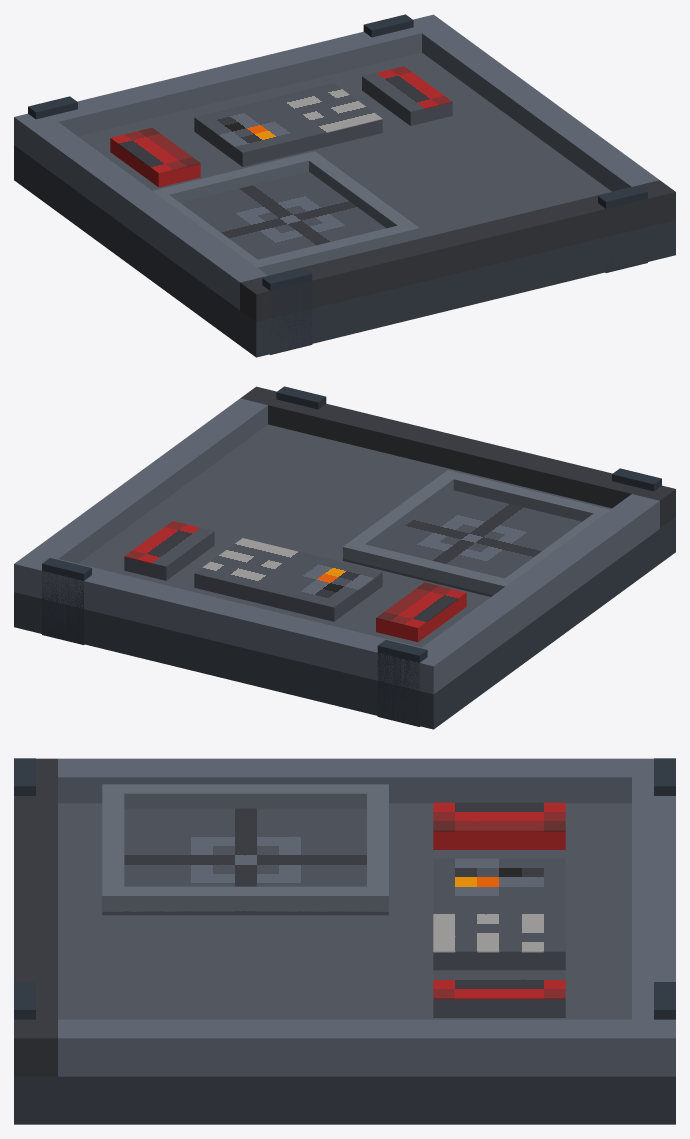
File: CMU3DSentryDeployerCloudSouth.glb
3 views of the same model, one above another, from view 1: azimuth 30°, elevation 25°; view 2: azimuth 150°, elevation 25°; view 3: azimuth 270°, elevation 25° (orthographic). The views are drawn at different scales.
Parts seen in each view (by area): view 1: recessed hatch lid, solid hatch undercarriage, south rail, north rail, west rail, inset mechanical hatch original top, east rail, raised latch or control block 3 original top, separate hatch rim (3, 26, 15, 27), external anchor lug (2, 30), separate hatch rim (3, 14, 15, 15), raised latch or control block 3 (+9 smaller); view 2: recessed hatch lid, solid hatch undercarriage, north rail, south rail, west rail, inset mechanical hatch original top, east rail, raised latch or control block 3 original top, separate hatch rim (3, 14, 15, 15), external anchor lug (26, 1), external anchor lug (2, 1), separate hatch rim (3, 26, 15, 27) (+9 smaller); view 3: recessed hatch lid, east rail, solid hatch undercarriage, west rail, inset mechanical hatch original top, raised latch or control block 3 original top, north rail, south rail, separate hatch rim (14, 15, 15, 26), separate hatch rim (3, 15, 4, 26), raised latch or control block 1 original top, raised latch or control block 2 original top (+10 smaller).
Part boxes in pixels (x1,y1,x2,y2): recessed hatch lid: (78,52,611,238); solid hatch undercarriage: (14,145,675,357); south rail: (240,180,675,322); north rail: (14,14,449,156); west rail: (30,122,267,310); inset mechanical hatch original top: (181,171,385,259); east rail: (422,26,659,191); raised latch or control block 3 original top: (194,83,382,153); separate hatch rim (3, 26, 15, 27): (249,222,419,275); external anchor lug (2, 30): (262,268,312,354); separate hatch rim (3, 14, 15, 15): (153,151,322,202); raised latch or control block 3: (194,118,382,166); recessed hatch lid: (78,424,611,647); solid hatch undercarriage: (14,517,675,729); north rail: (14,552,449,694); south rail: (240,386,675,528); west rail: (422,494,659,682); inset mechanical hatch original top: (343,490,581,595); east rail: (30,398,267,563); raised latch or control block 3 original top: (194,538,382,607); separate hatch rim (3, 14, 15, 15): (343,541,512,594); external anchor lug (26, 1): (42,558,91,644); external anchor lug (2, 1): (377,640,427,726); separate hatch rim (3, 26, 15, 27): (440,470,609,521); recessed hatch lid: (58,803,631,1019); east rail: (58,1019,631,1076); solid hatch undercarriage: (14,1076,675,1124); west rail: (58,758,631,803); inset mechanical hatch original top: (102,808,388,911); raised latch or control block 3 original top: (433,858,565,952); north rail: (632,758,675,1076); south rail: (14,758,57,1076); separate hatch rim (14, 15, 15, 26): (124,886,366,911); separate hatch rim (3, 15, 4, 26): (124,784,366,808); raised latch or control block 1 original top: (433,802,565,831); raised latch or control block 2 original top: (433,970,565,999).
Size of the model in its own units: 0.9375 by 0.152 by 0.9375.
Materials: 12 (4 with a texture image).
